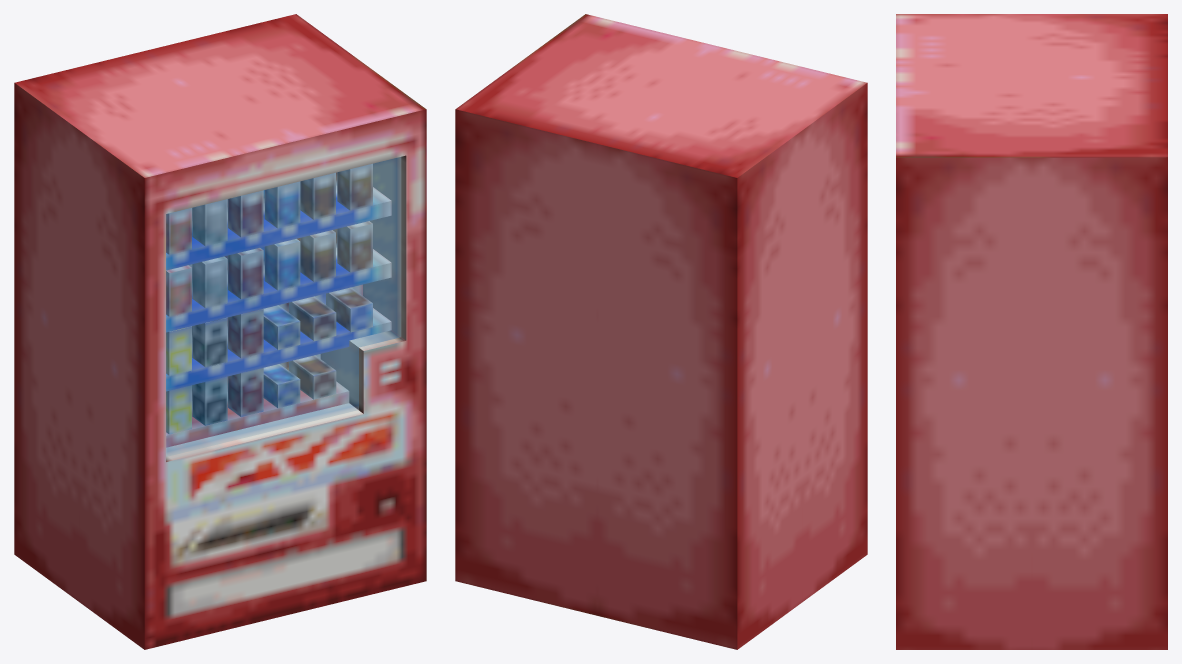
Rendered from Poly_SF_Outside_B_Vending_Machine_01.obj.
3 views of the same model, side by side, from view 1: azimuth 30°, elevation 25°; view 2: azimuth 150°, elevation 25°; view 3: azimuth 270°, elevation 25° (orthographic). The views are drawn at different scales.
Parts seen in each view (by area): view 1: Cube.007, Cube.004, Cube.002, Cube.003, Cube.001; view 2: Cube.007; view 3: Cube.007.
Part boxes in pixels (x1=…): Cube.007: x1=14, y1=14, x2=426, y2=649; Cube.004: x1=166, y1=157, x2=400, y2=456; Cube.002: x1=166, y1=164, x2=372, y2=317; Cube.003: x1=166, y1=287, x2=372, y2=434; Cube.001: x1=166, y1=185, x2=391, y2=447; Cube.007: x1=455, y1=14, x2=867, y2=649; Cube.007: x1=896, y1=14, x2=1167, y2=649.
Bounding box in the file's own units: 1 × 1.6 × 0.8.
2 materials, 2 textured.
